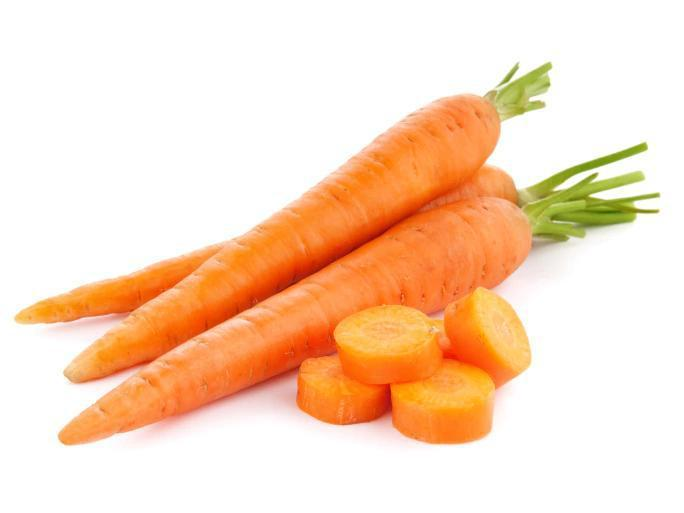carrot: (10, 86, 604, 472)
